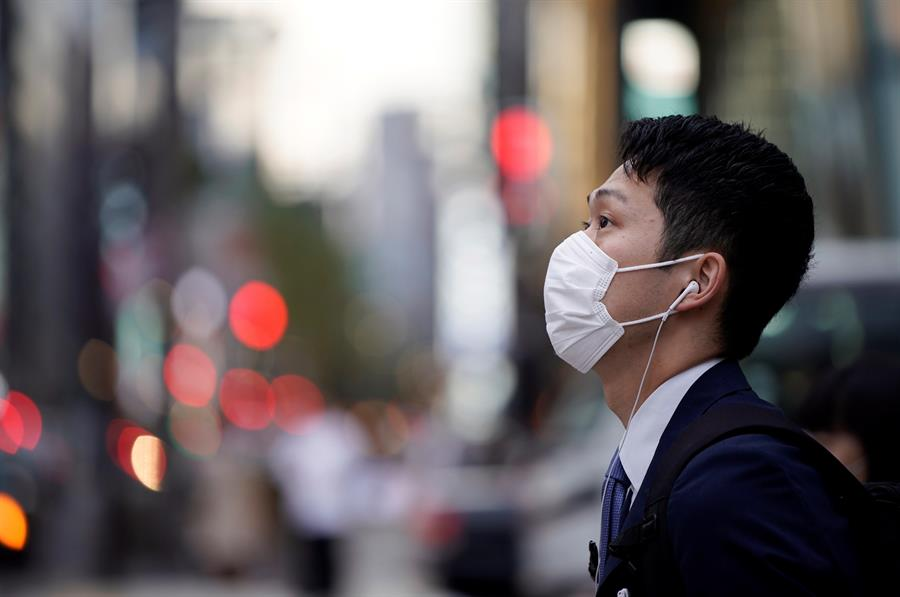with_mask: (522, 128, 818, 415)
